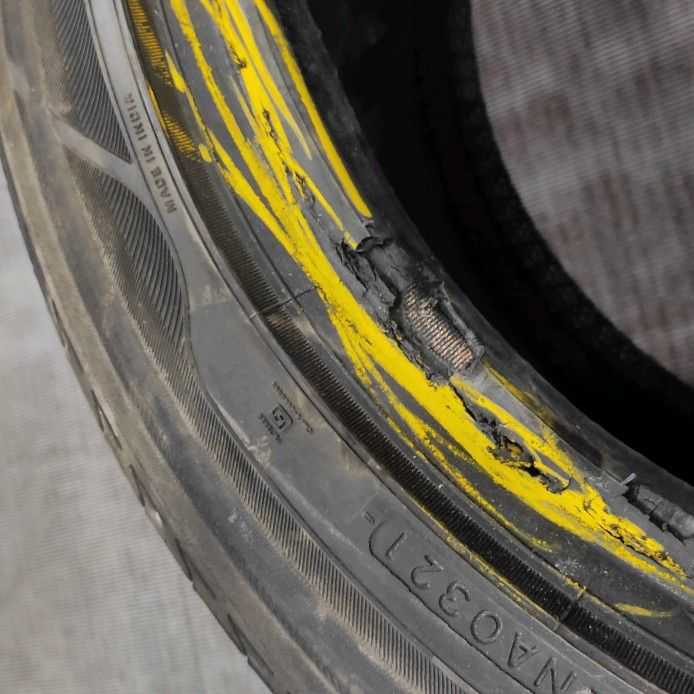bead_damage: (252, 104, 693, 605)
